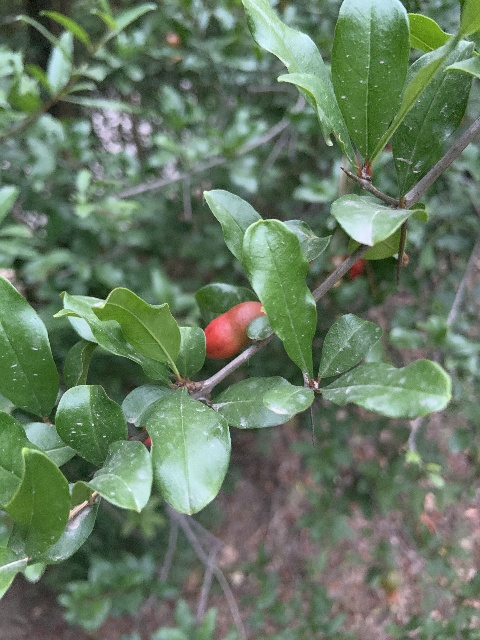bud: (204, 300, 266, 360)
